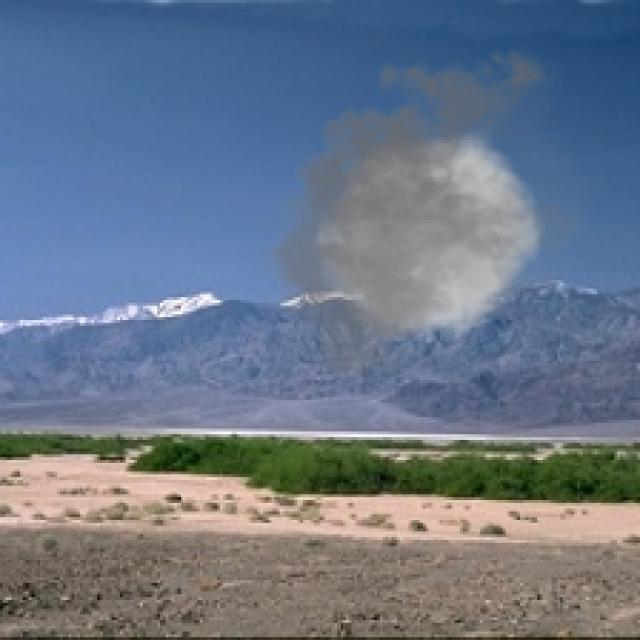Smoke: (248, 39, 606, 392)
